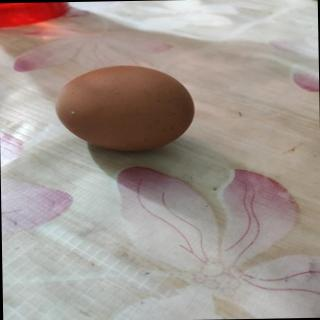Telur: (53, 63, 199, 159)
